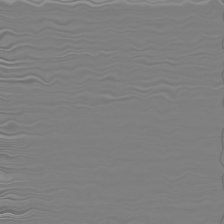cavities: (0, 63, 161, 127)
